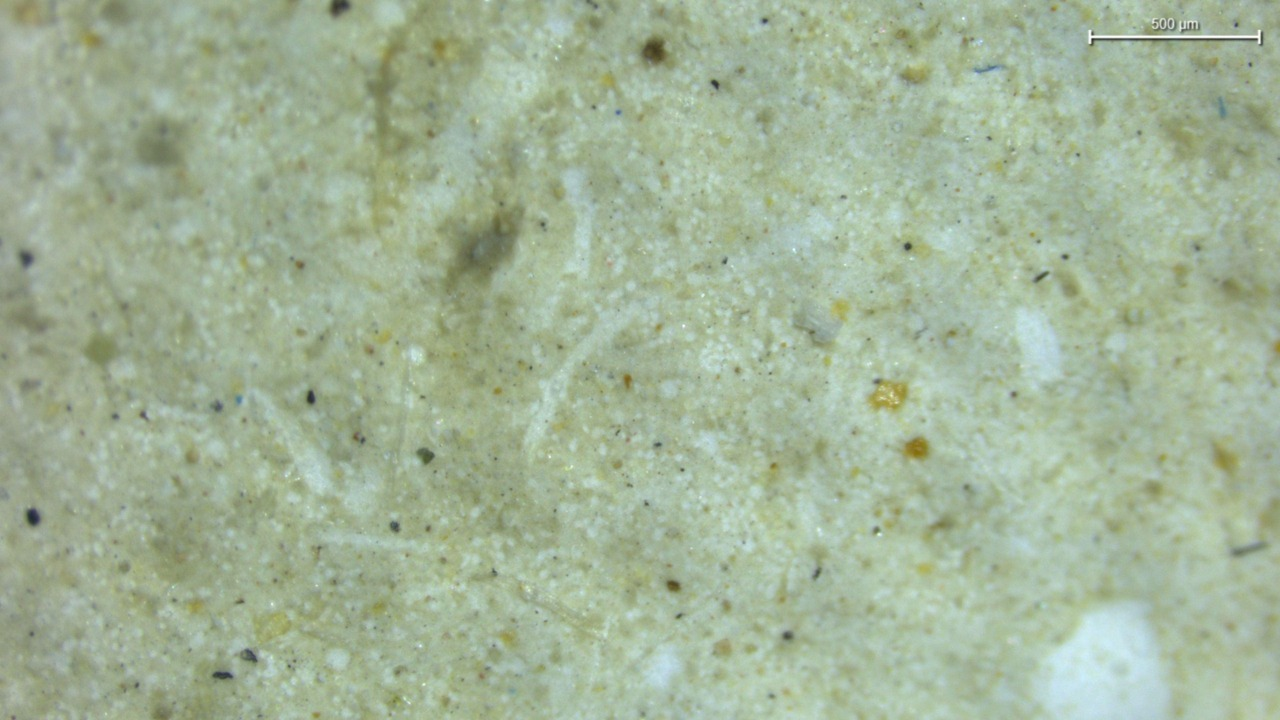microplastic_fragment: (792, 298, 843, 344)
